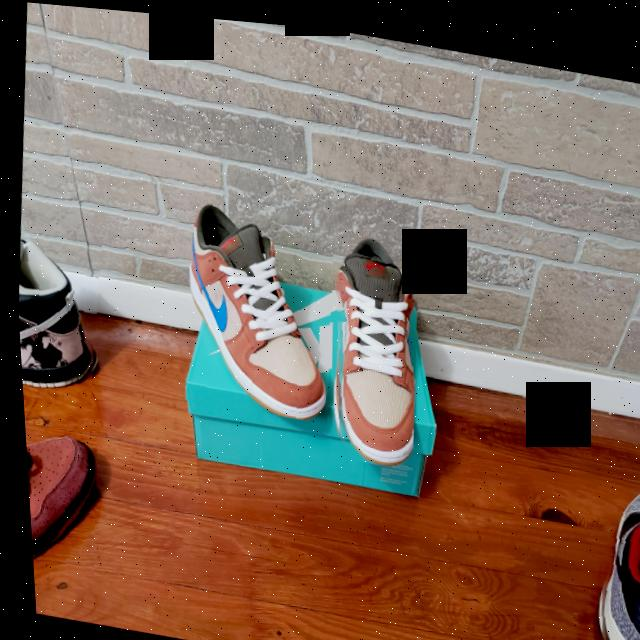shoe: (169, 193, 341, 420), (313, 220, 427, 464), (10, 225, 106, 397), (20, 425, 98, 580), (577, 455, 640, 640)
